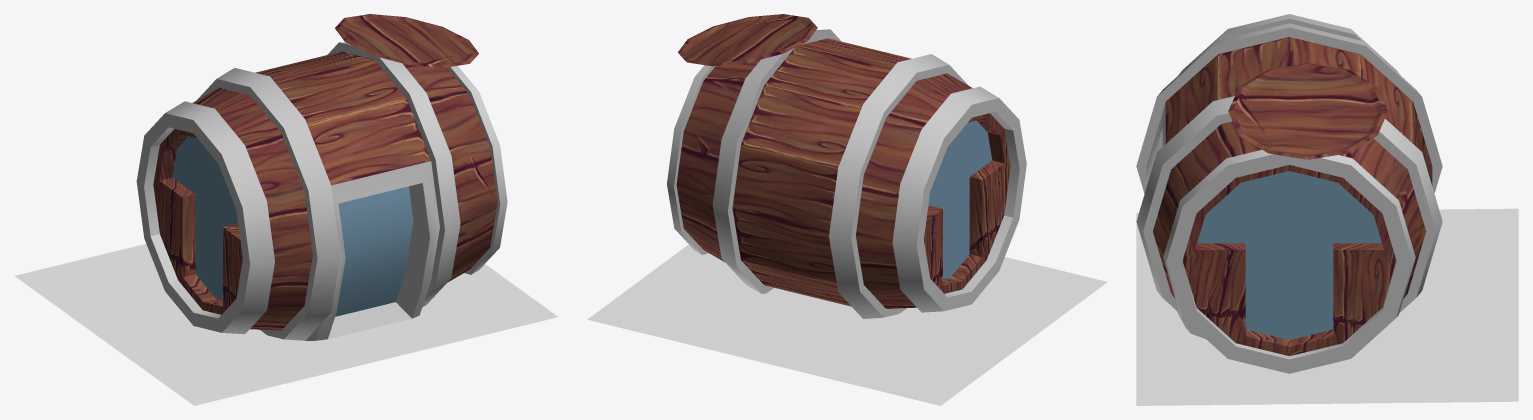
Rendered from CasaBarril.fbx.
3 views of the same model, side by side, from view 1: azimuth 30°, elevation 25°; view 2: azimuth 150°, elevation 25°; view 3: azimuth 270°, elevation 25° (orthographic). The views are drawn at different scales.
Visible parts, largest first — view 1: barril; view 2: barril; view 3: barril.
Part boxes in pixels (x1,y1,x2,y2): barril: (15,14,557,405); barril: (587,14,1107,405); barril: (1136,14,1518,405).
Size of the model in its own units: 323 by 222 by 268.
